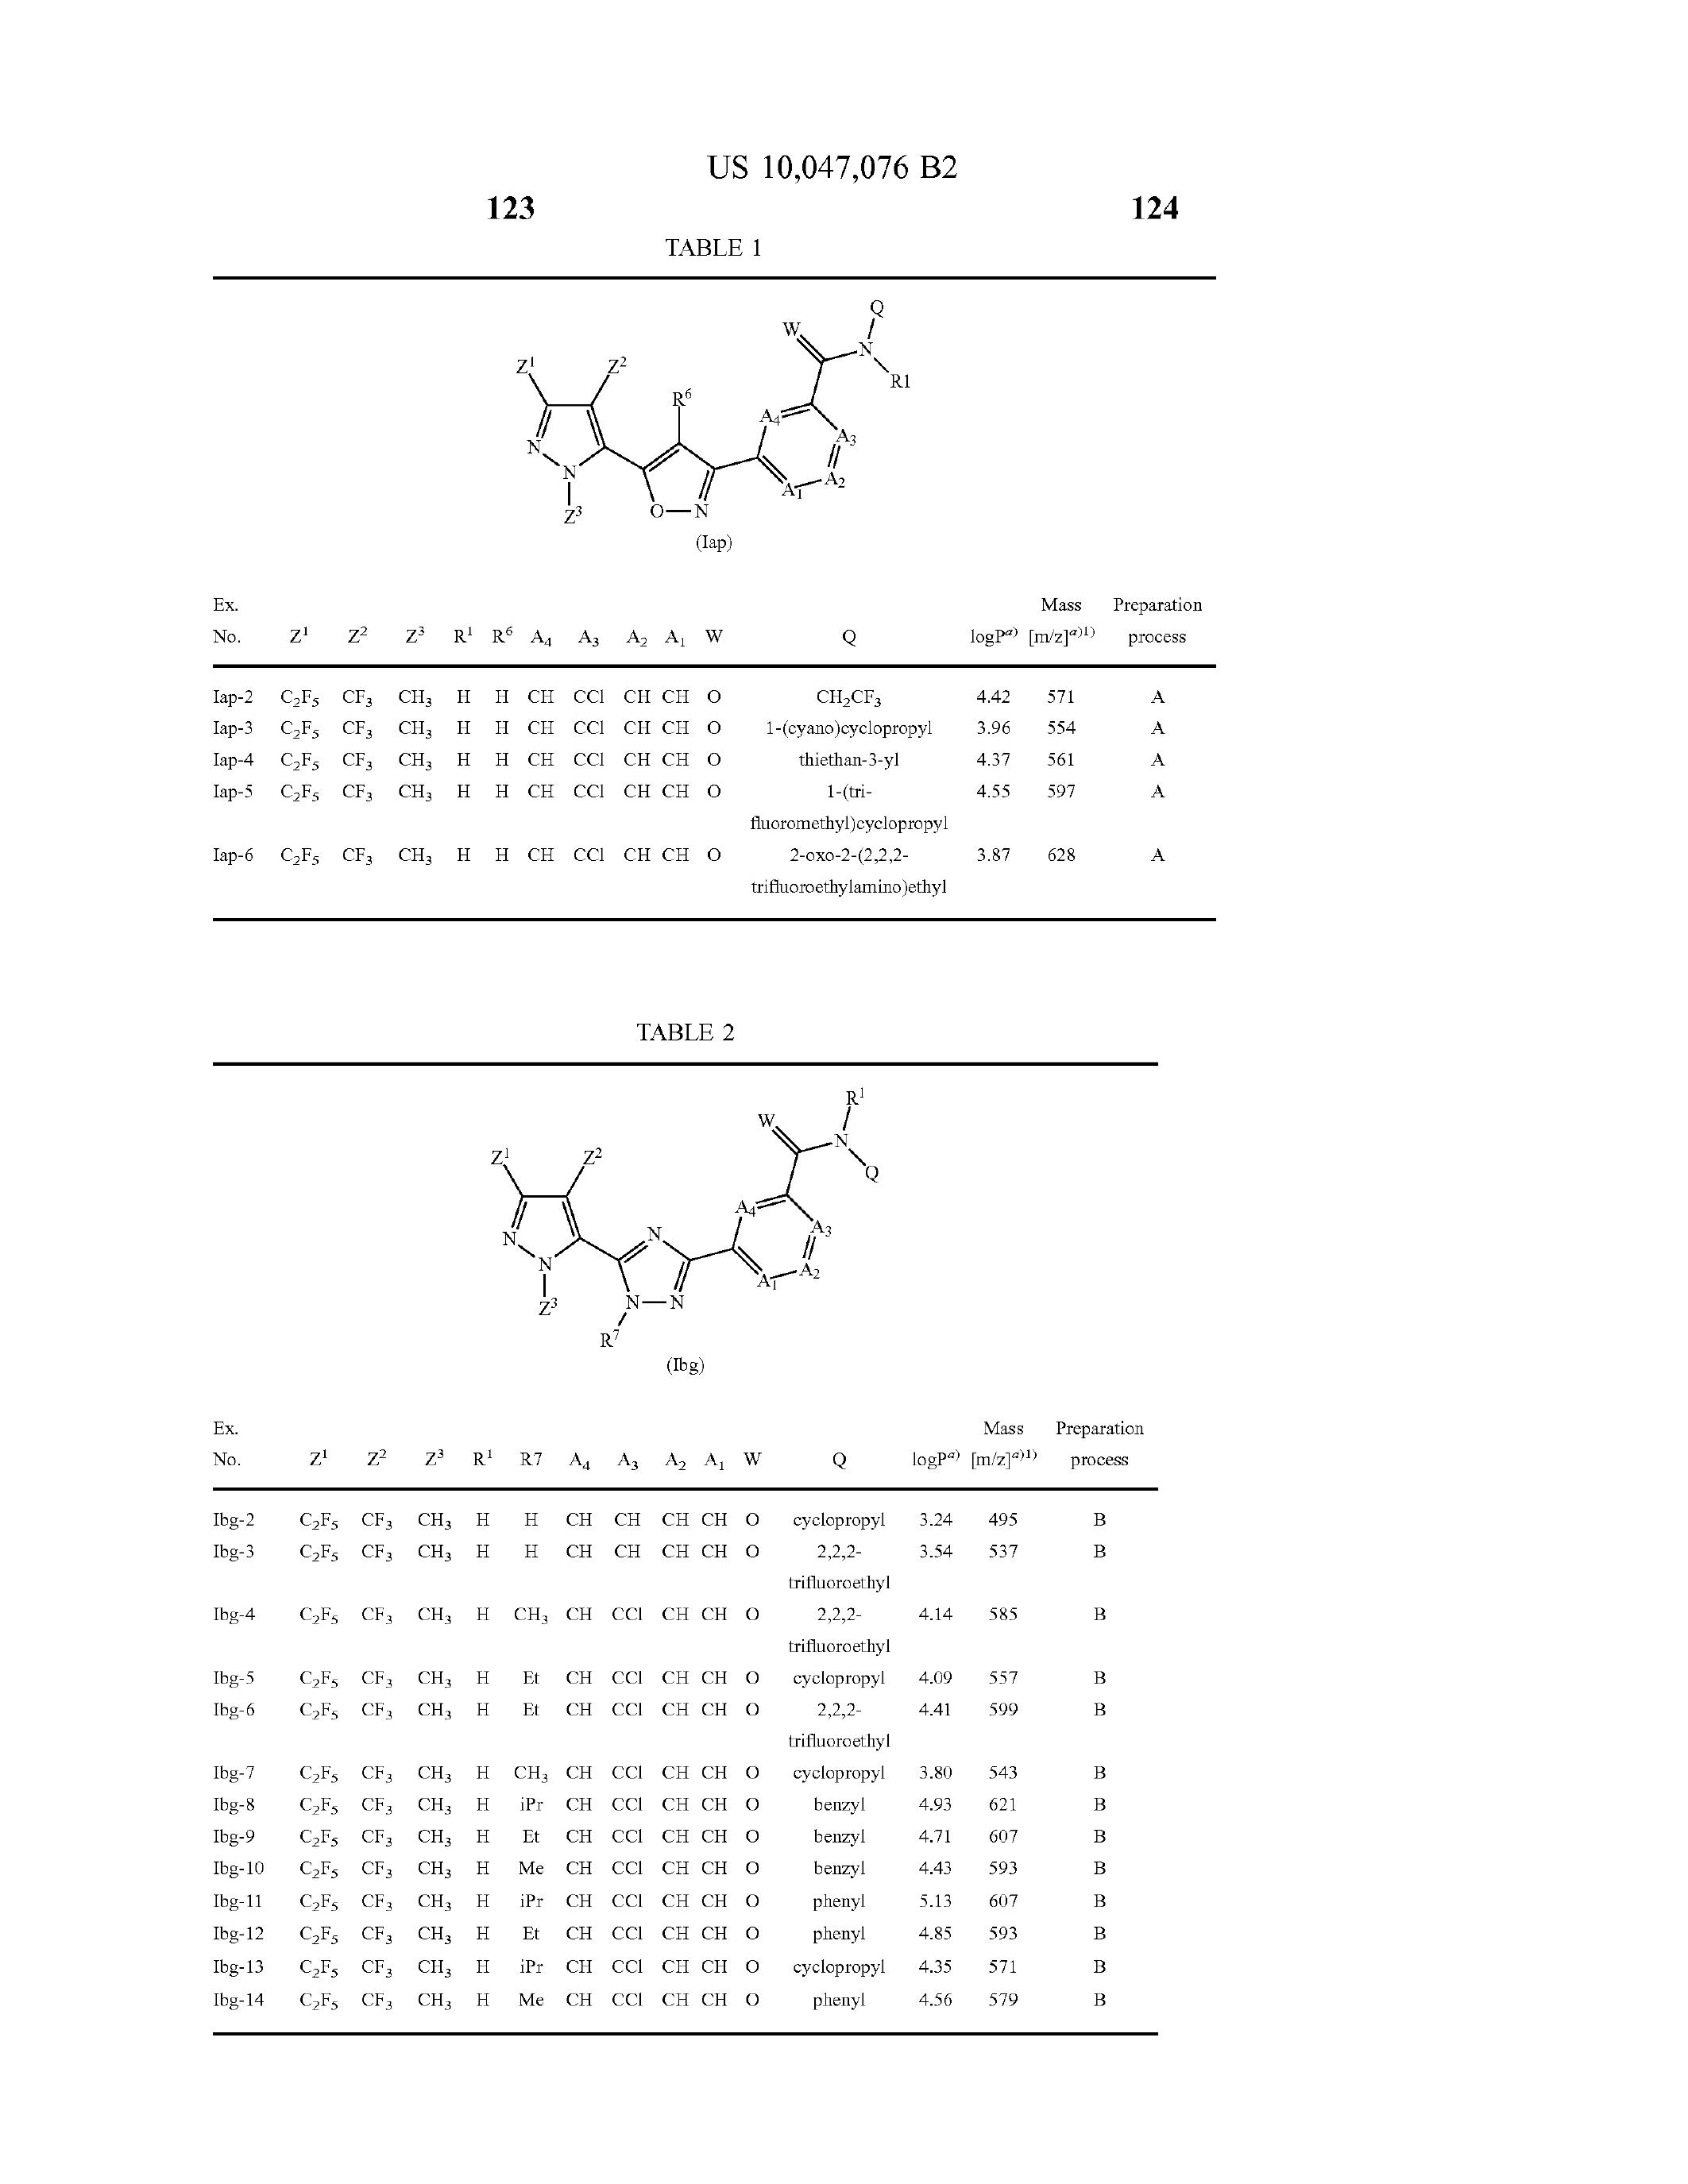relevant-structures: (443, 292, 1165, 550), (436, 1083, 977, 1399)
